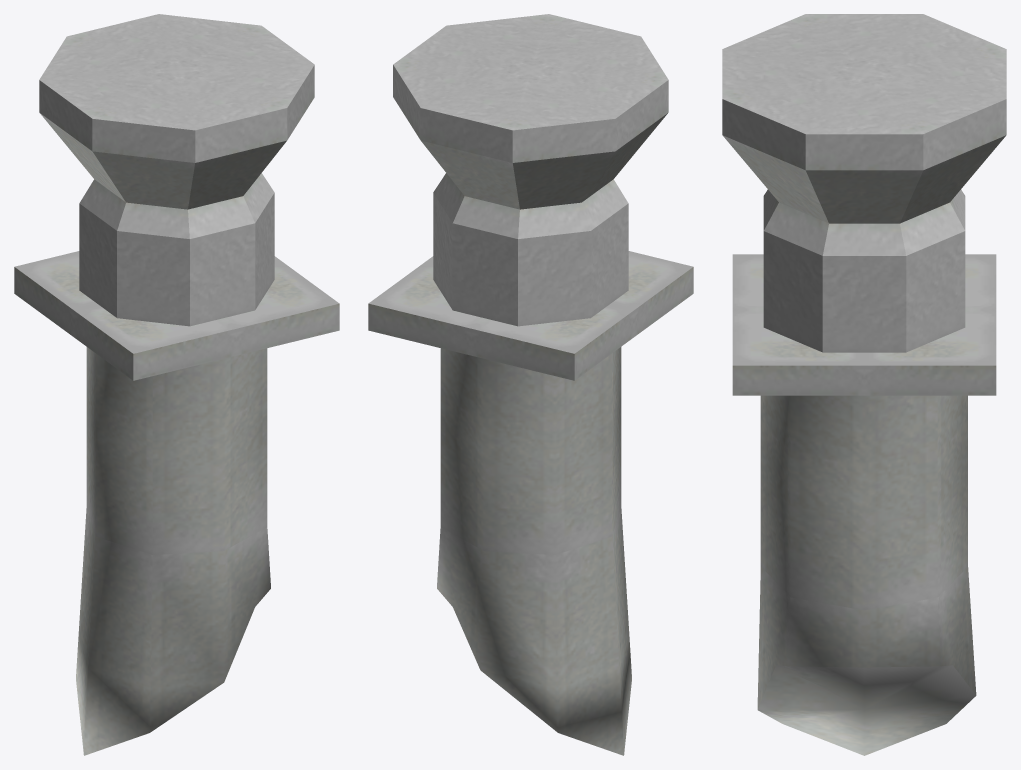
File: general_obj_bigtower02.fbx
The picture shows the model from 3 angles, left to right: view 1: azimuth 30°, elevation 25°; view 2: azimuth 150°, elevation 25°; view 3: azimuth 270°, elevation 25°; orthographic projection. The views are drawn at different scales.
Visible parts, largest first — view 1: Sphere01; view 2: Sphere01; view 3: Sphere01.
Boxes of the visible parts, x1,y1,x2,y2 form: Sphere01: [14, 14, 339, 755]; Sphere01: [368, 14, 693, 755]; Sphere01: [722, 14, 1006, 755].
Size of the model in its own units: 4.31 by 12.3 by 4.31.
